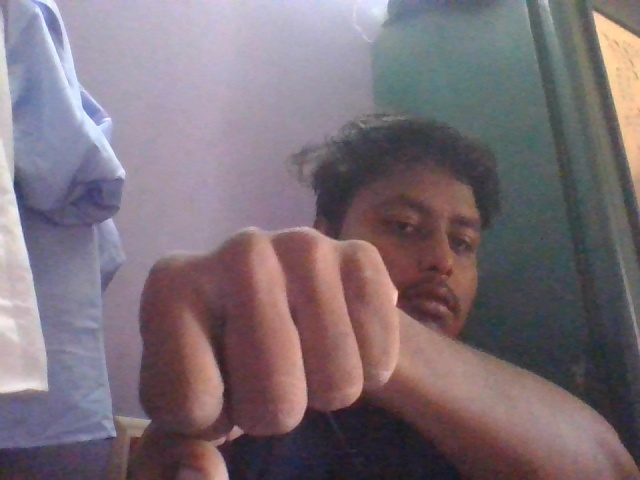yes: (117, 221, 403, 480)
